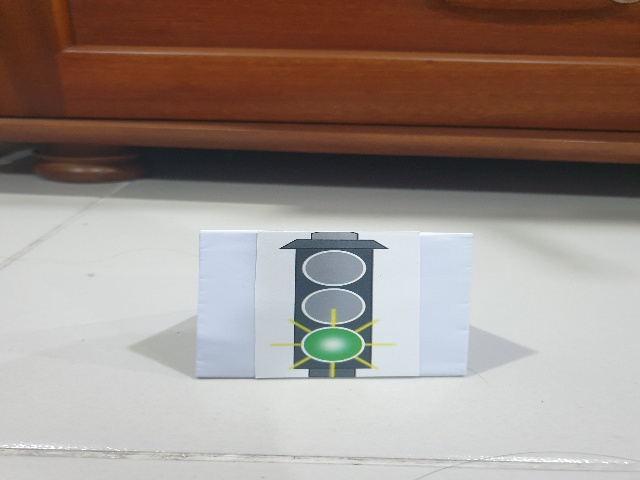Green Light: (280, 233, 396, 379)
